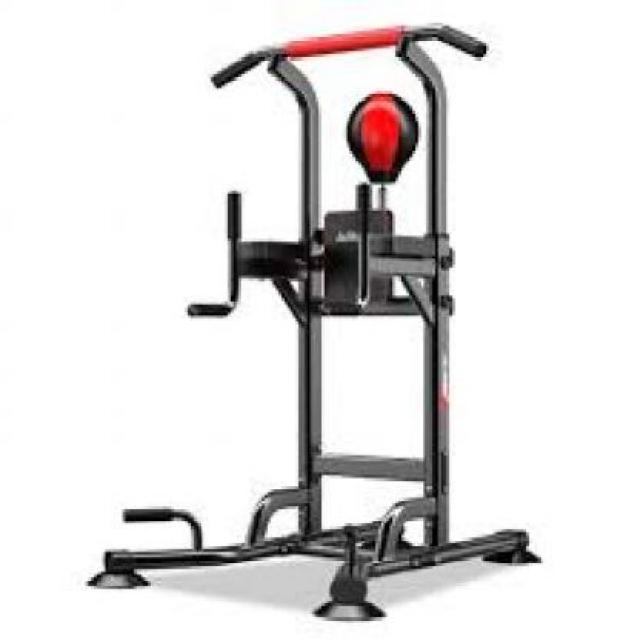chinning dipping: (94, 21, 538, 617)
